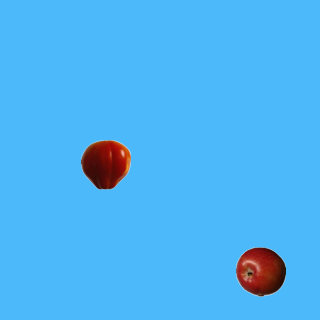Apple Braeburn: (235, 246, 285, 296)
Tomato 1: (80, 139, 130, 189)
